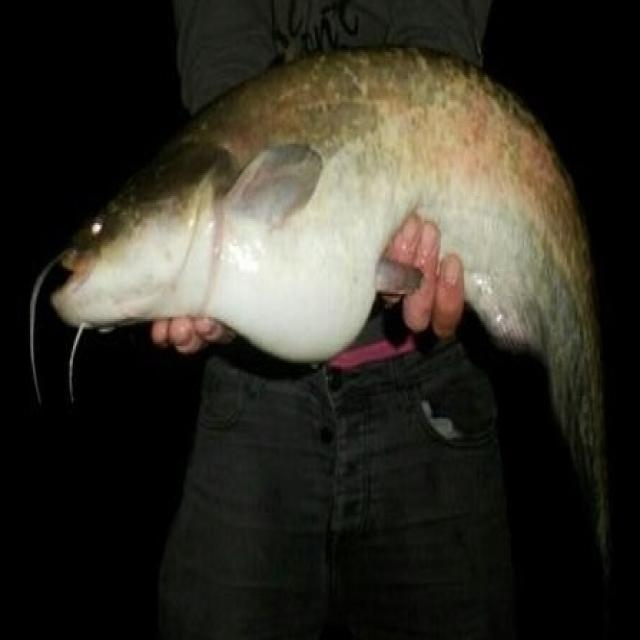Catfish: (36, 19, 624, 600)
